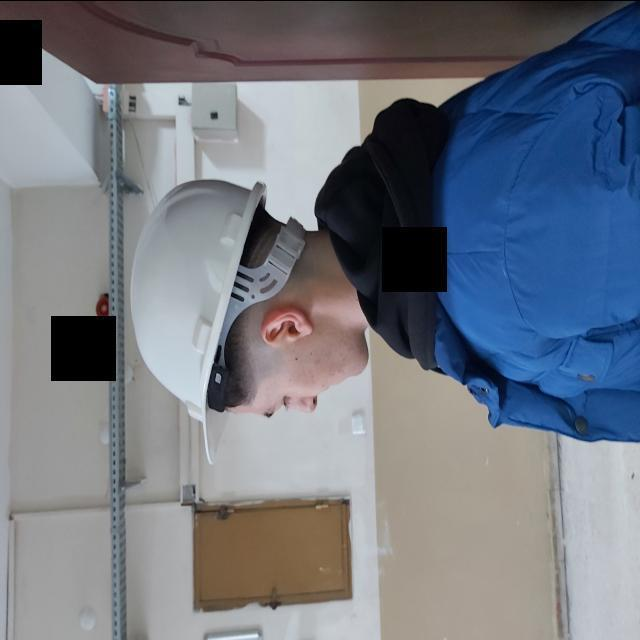white helmet: (126, 176, 266, 464)
